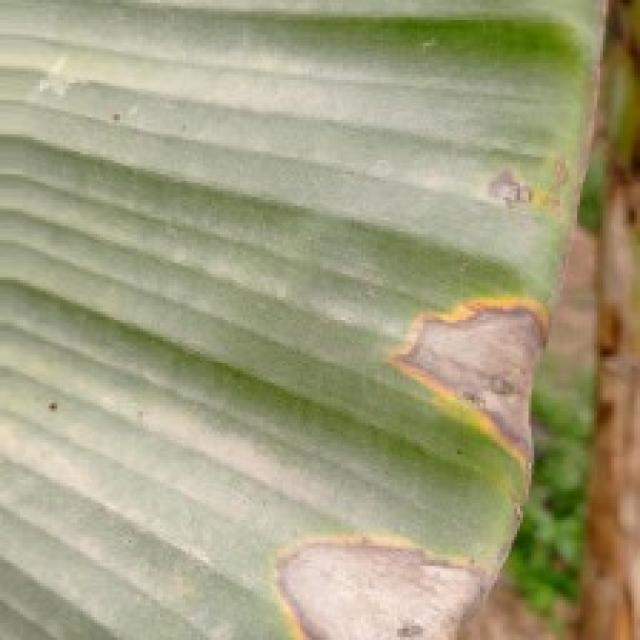Bacterial_spot: (367, 279, 557, 487), (255, 520, 505, 640), (472, 158, 577, 228)
